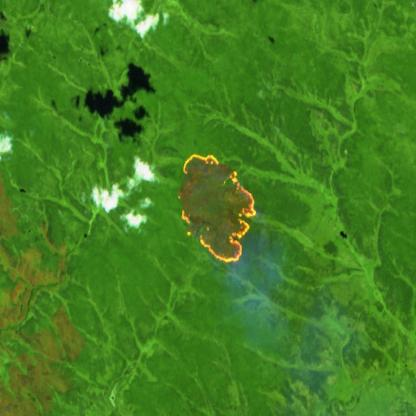fire: (176, 151, 258, 266)
